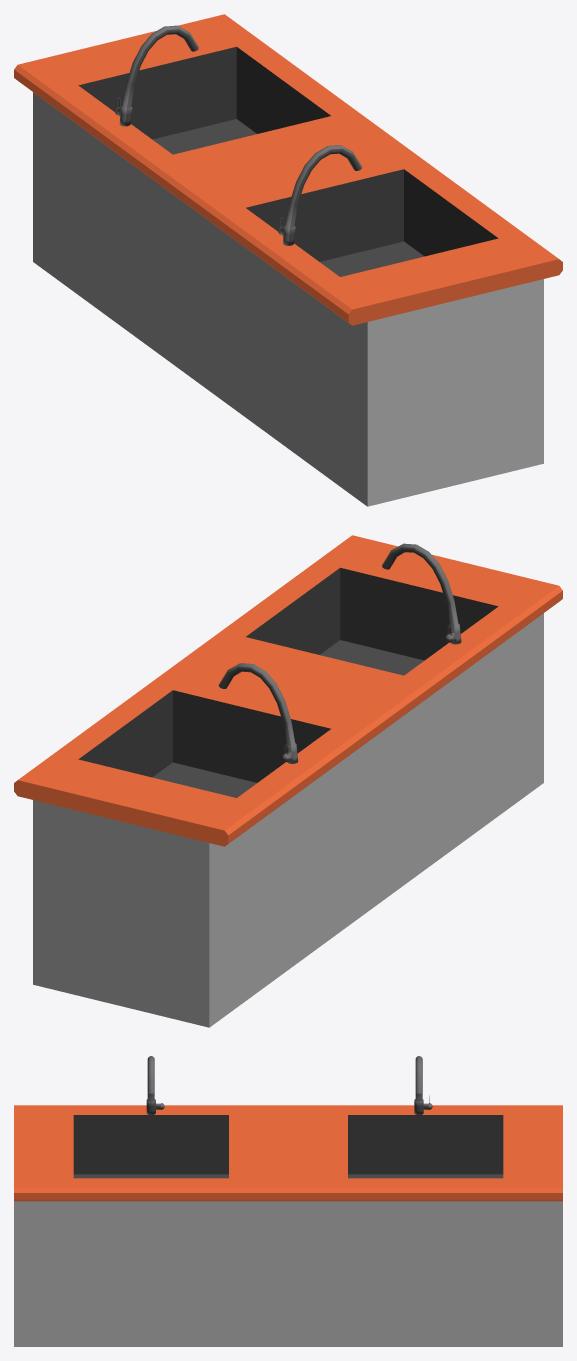
The model's file is Kitchen sink.fbx.
3 views of the same model, one above another, from view 1: azimuth 30°, elevation 25°; view 2: azimuth 150°, elevation 25°; view 3: azimuth 270°, elevation 25° (orthographic). The views are drawn at different scales.
Parts seen in each view (by area): view 1: Sink; view 2: Sink; view 3: Sink.
Part boxes in pixels (left/top/right/bottom): Sink: left=14, top=14, right=562, bottom=506; Sink: left=14, top=535, right=562, bottom=1027; Sink: left=14, top=1056, right=562, bottom=1346.
Size of the model in its own units: 243 by 312 by 657.
